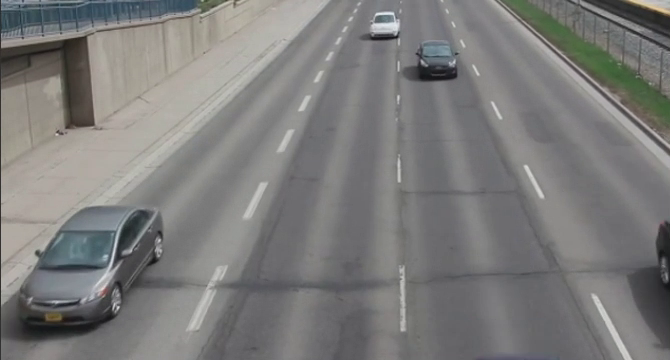car: (11, 196, 171, 333), (414, 38, 462, 79), (365, 8, 404, 42)
